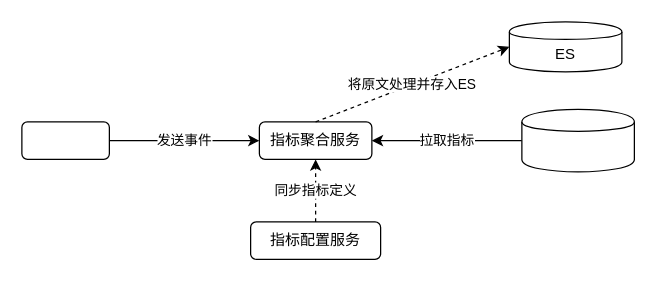
This 656x281 diagram has some shape labels left out. The box of each missing label's shape, as (x1, y1, x2, y2) in pixels:
Prometheus: (521, 108, 634, 172)
前端页面: (21, 121, 109, 159)
